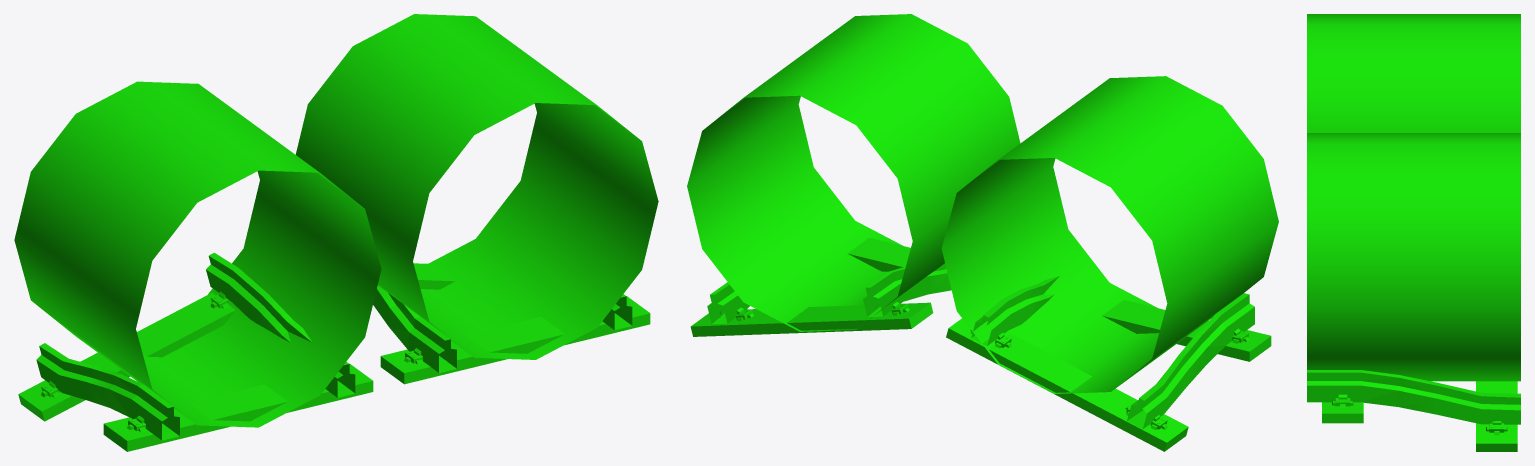
File: ST-roll v1.FBX
The picture shows the model from 3 angles, left to right: view 1: azimuth 30°, elevation 25°; view 2: azimuth 150°, elevation 25°; view 3: azimuth 270°, elevation 25°; orthographic projection. The views are drawn at different scales.
Visible parts, largest first — view 1: Cylinder034, Cylinder044, rail stright089, rail stright094; view 2: Cylinder034, Cylinder044, rail stright089, rail stright094; view 3: Cylinder044, Cylinder034, rail stright094.
Boxes of the visible parts, left/top/right/bottom form: Cylinder034: left=14, top=81, right=381, bottom=427; Cylinder044: left=295, top=14, right=658, bottom=359; rail stright089: left=18, top=252, right=373, bottom=451; rail stright094: left=373, top=263, right=650, bottom=384; Cylinder034: left=941, top=76, right=1278, bottom=393; Cylinder044: left=687, top=14, right=1020, bottom=331; rail stright089: left=946, top=276, right=1271, bottom=451; rail stright094: left=690, top=237, right=951, bottom=336; Cylinder044: left=1307, top=133, right=1520, bottom=381; Cylinder034: left=1307, top=14, right=1520, bottom=132; rail stright094: left=1307, top=370, right=1520, bottom=451.
Size of the model in its own units: 298 by 159 by 120.
